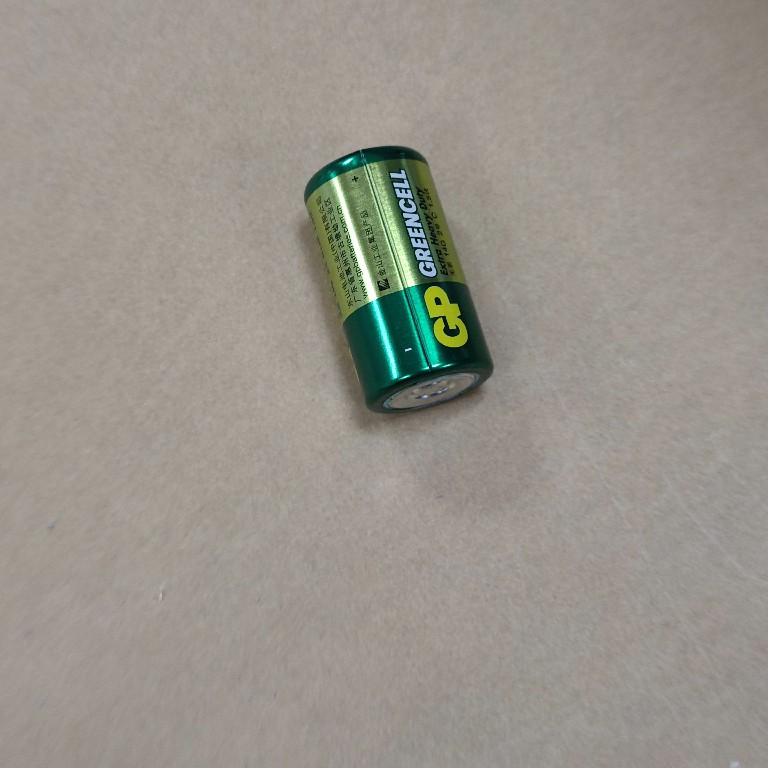charge: (299, 141, 498, 418)
